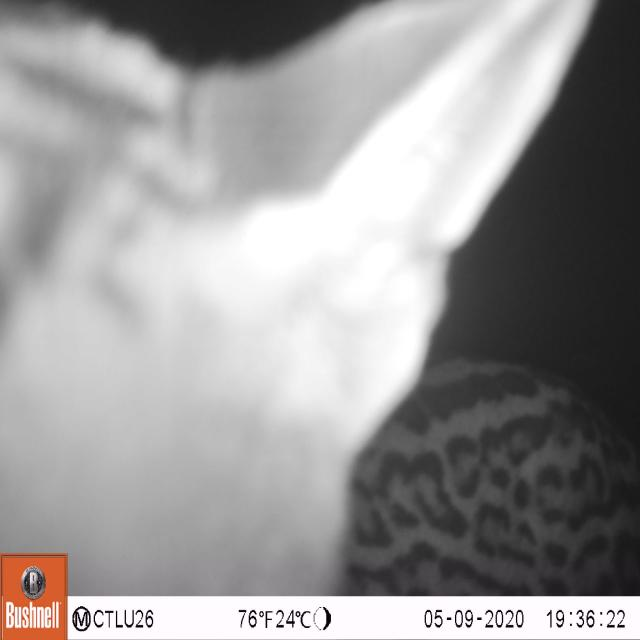Ocelote: (0, 0, 640, 598)
